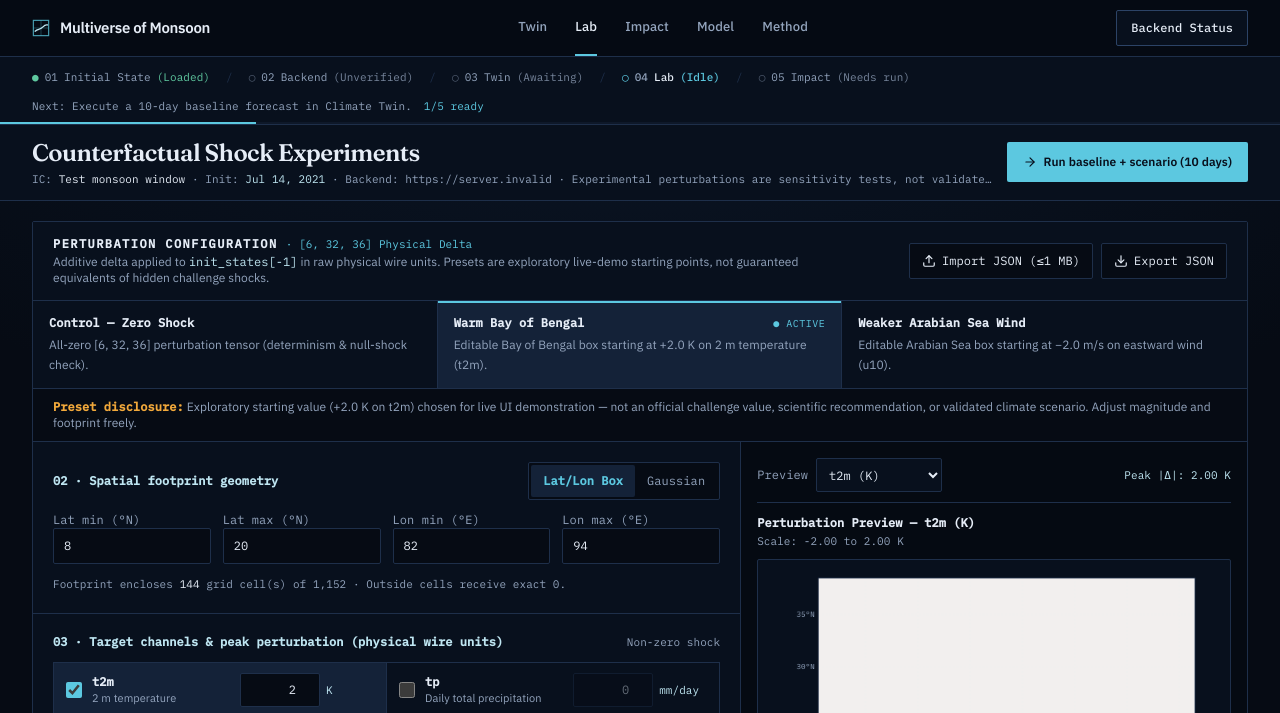
Test case: Phase 2B Experiment Lab (/lab) & Impact Lens (/impact) UI Integration › sends an all-zero [6][32][36] tensor for Control — Zero Shock and reports exact 0 max abs diff
Earlier steps of the test are not shown.
Click the button "Control — Zero Shock" at (235, 344), box 33,301 -> 438,388
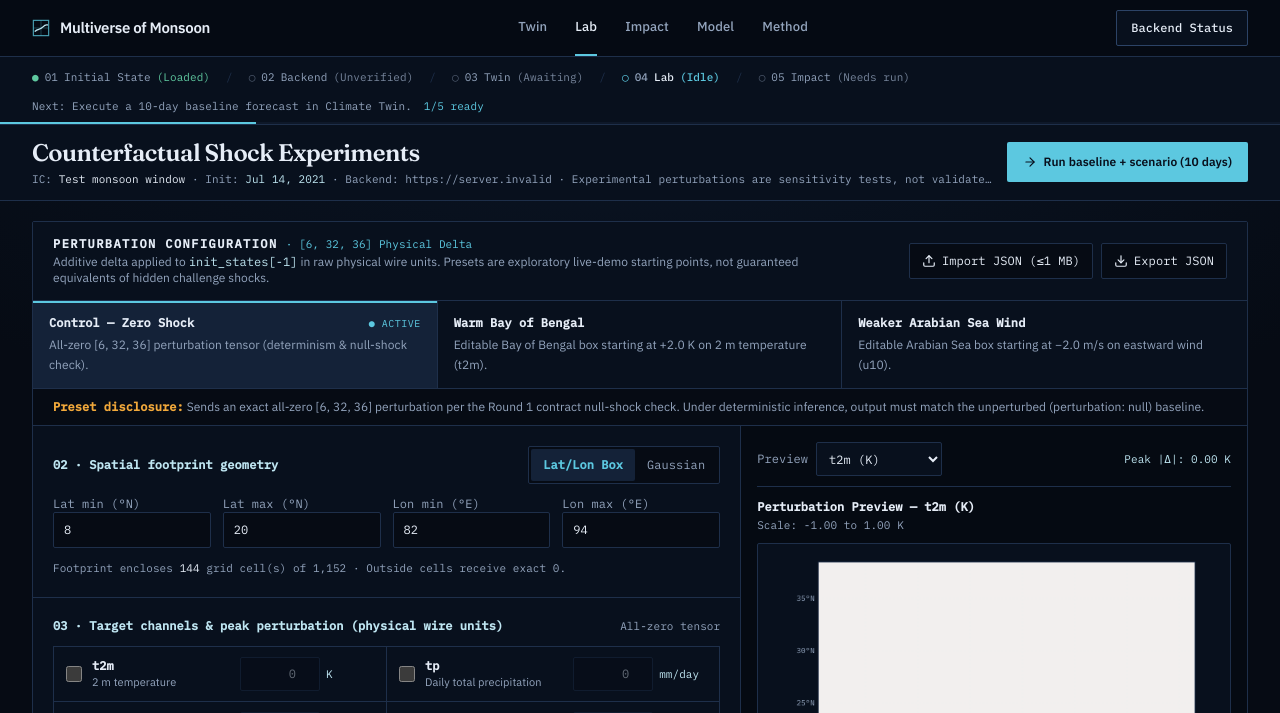
Click the button "Run baseline + scenario (10 days)" at (1128, 162), box 1008,142 -> 1248,182
(page scrolled)
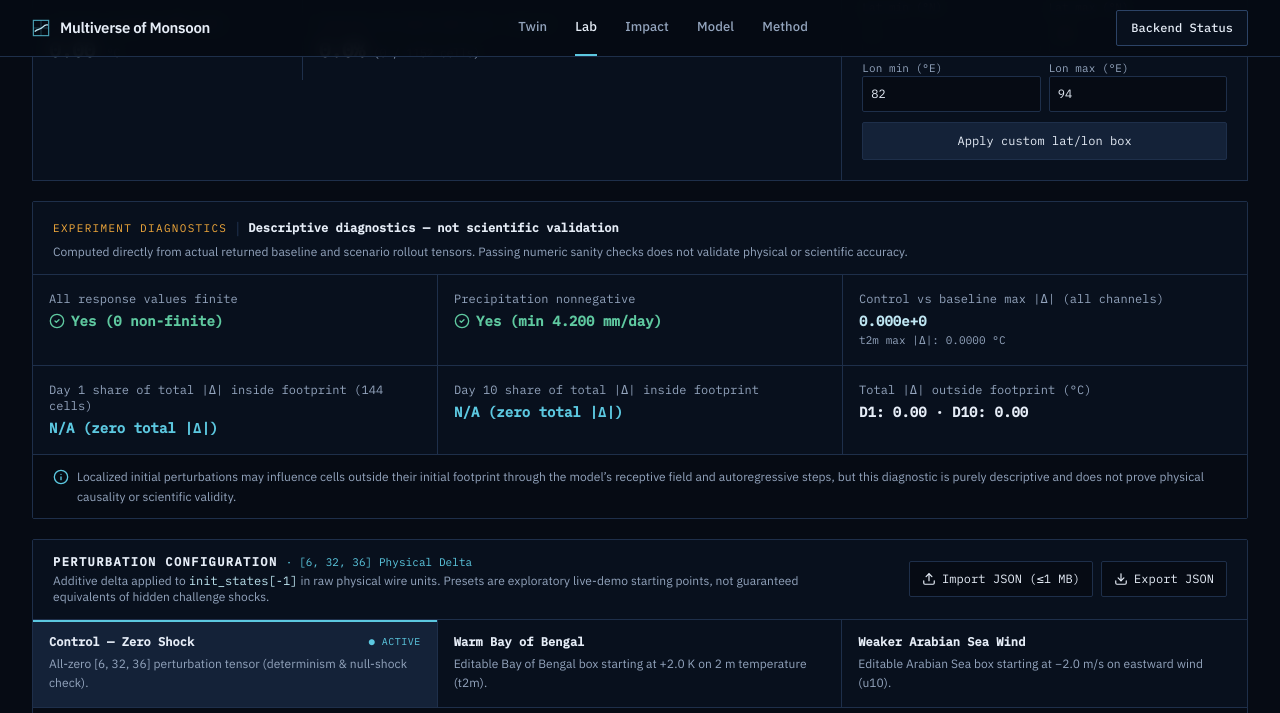
Expected: the element with test id "lab-integrity-panel" is shown, 32,201 -> 1248,519
Expected: the element with test id "lab-integrity-panel" shows "0.000e+0", 859,312 -> 927,330
